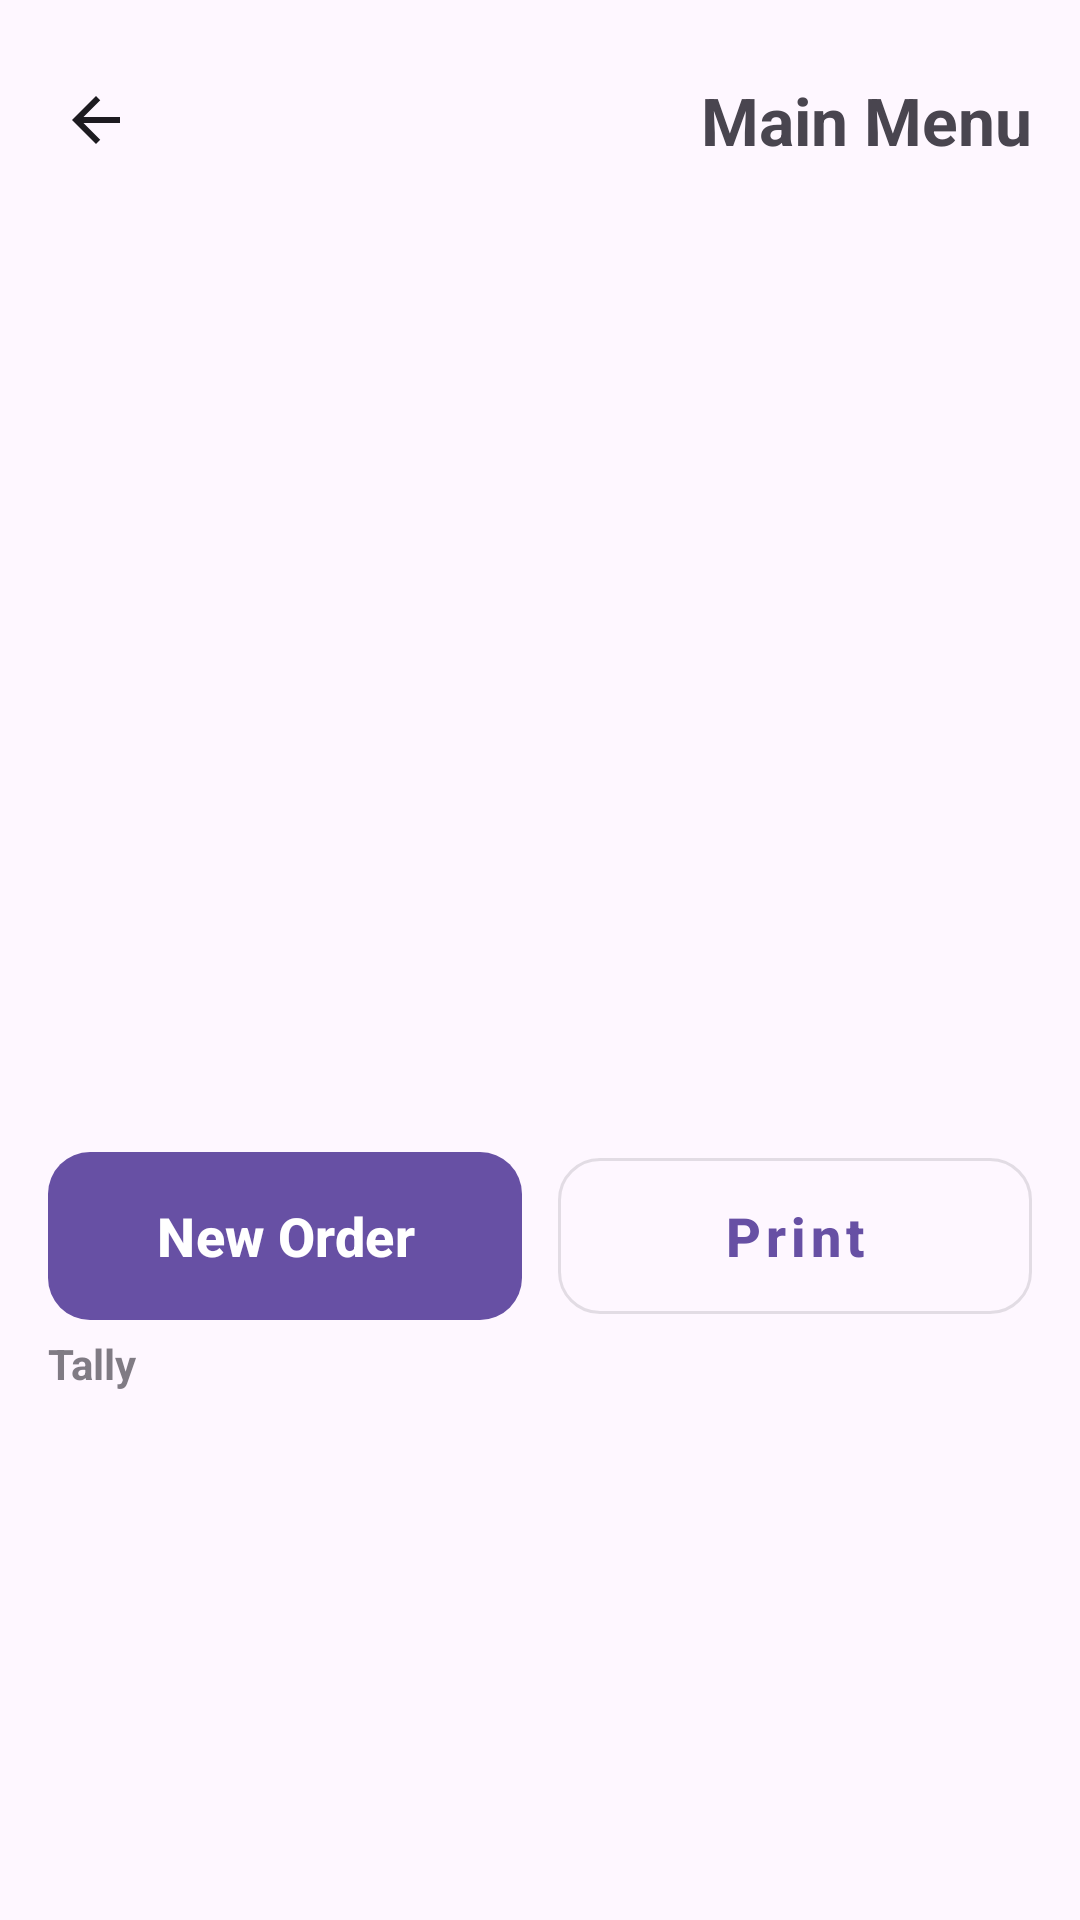

Where icons sit on this 1080*1920 app screen, as (x1, y1, x2, y2):
Back: (72, 96, 120, 144)
